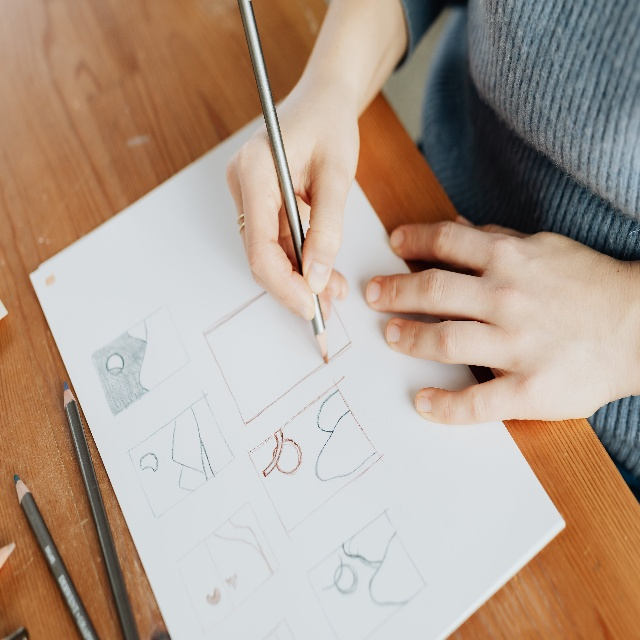Sin_guantes: (365, 215, 632, 426), (226, 77, 361, 321)
